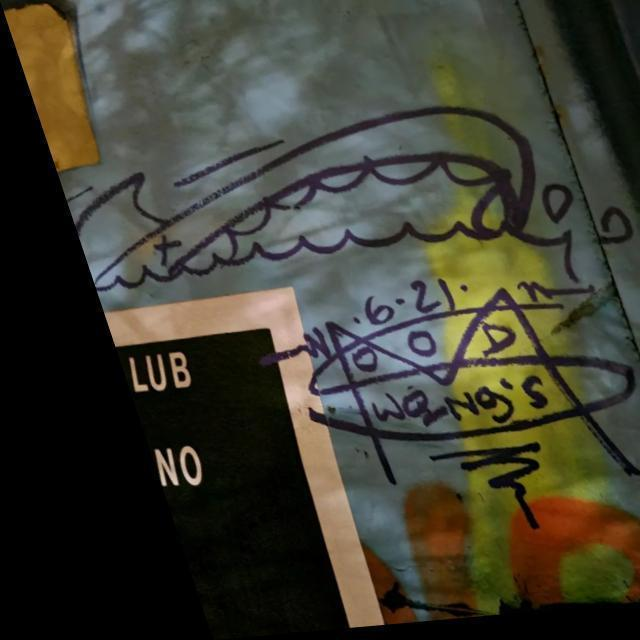nonspitting: (66, 102, 640, 294), (263, 277, 640, 531)
